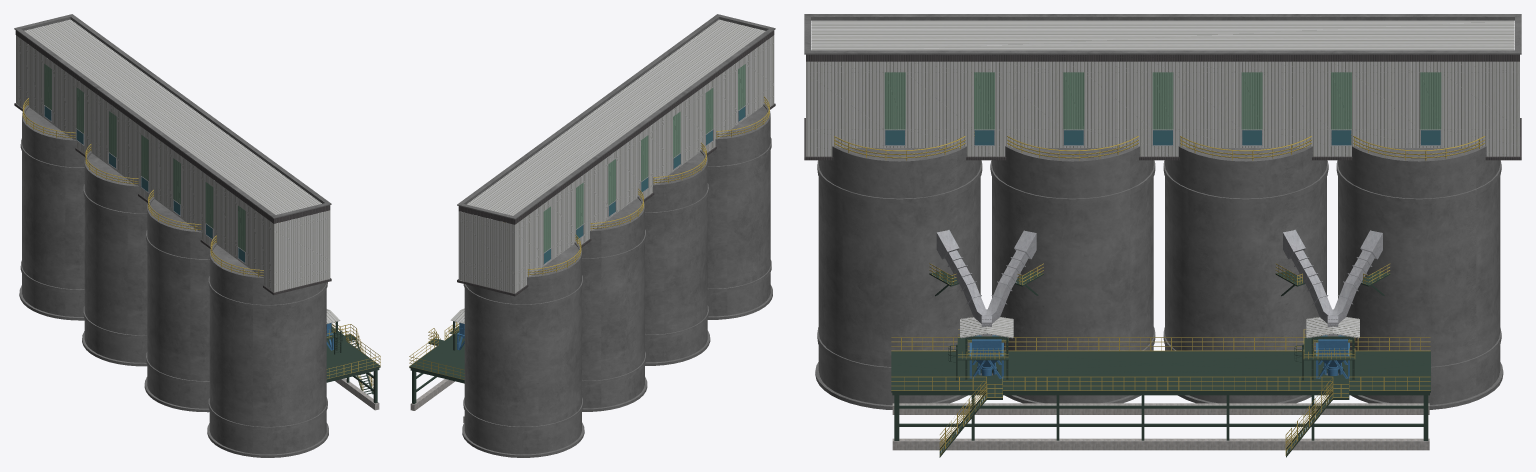
File: 成品仓.glb
3 renders of one model, left to right at view 1: azimuth 30°, elevation 25°; view 2: azimuth 150°, elevation 25°; view 3: azimuth 270°, elevation 25°, orthographic. The views are drawn at different scales.
Parts seen in each view (by area): view 1: 成品仓04, 成品仓02, 成品仓03, 成品仓10, 成品仓05, 成品仓06, 成品仓07, 成品仓09; view 2: 成品仓04, 成品仓02, 成品仓03, 成品仓05, 成品仓10, 成品仓06, 成品仓07, 成品仓09; view 3: 成品仓04, 成品仓02, 成品仓10, 成品仓06, 成品仓09, 成品仓03, 成品仓05, 成品仓01, 成品仓07, 成品仓00.
Boxes of the visible parts, <box> form: 成品仓04: <box>14,14,331,457</box>; 成品仓02: <box>16,19,340,323</box>; 成品仓03: <box>44,64,245,251</box>; 成品仓10: <box>326,321,380,403</box>; 成品仓05: <box>14,30,331,295</box>; 成品仓06: <box>22,98,380,390</box>; 成品仓07: <box>44,106,244,262</box>; 成品仓09: <box>335,378,379,410</box>; 成品仓04: <box>457,14,775,457</box>; 成品仓02: <box>450,19,774,323</box>; 成品仓03: <box>543,64,745,252</box>; 成品仓05: <box>457,30,775,296</box>; 成品仓10: <box>409,321,464,403</box>; 成品仓06: <box>409,96,769,379</box>; 成品仓07: <box>544,106,745,263</box>; 成品仓09: <box>410,379,464,422</box>; 成品仓04: <box>804,14,1521,409</box>; 成品仓02: <box>806,20,1519,338</box>; 成品仓10: <box>891,271,1430,457</box>; 成品仓06: <box>834,132,1484,455</box>; 成品仓09: <box>892,403,1429,450</box>; 成品仓03: <box>884,72,1441,129</box>; 成品仓05: <box>804,54,1521,160</box>; 成品仓01: <box>936,229,1382,336</box>; 成品仓07: <box>885,130,1440,145</box>; 成品仓00: <box>969,335,1349,378</box>.
Bounding box in the file's own units: 26.39 × 36.23 × 68.56.
Materials: 11 (11 with a texture image).
